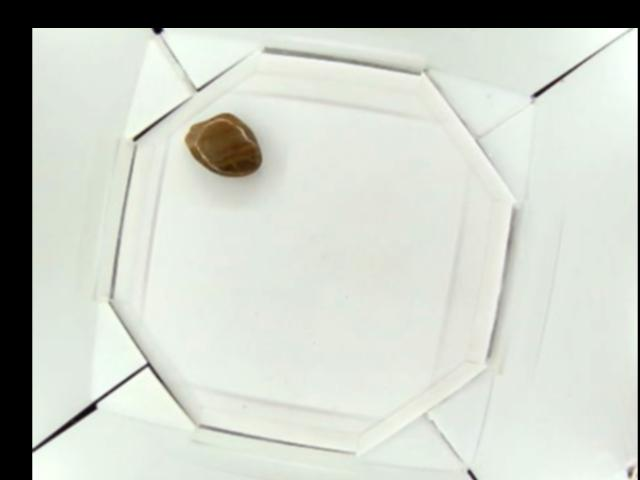Pebble: (184, 111, 265, 177)
